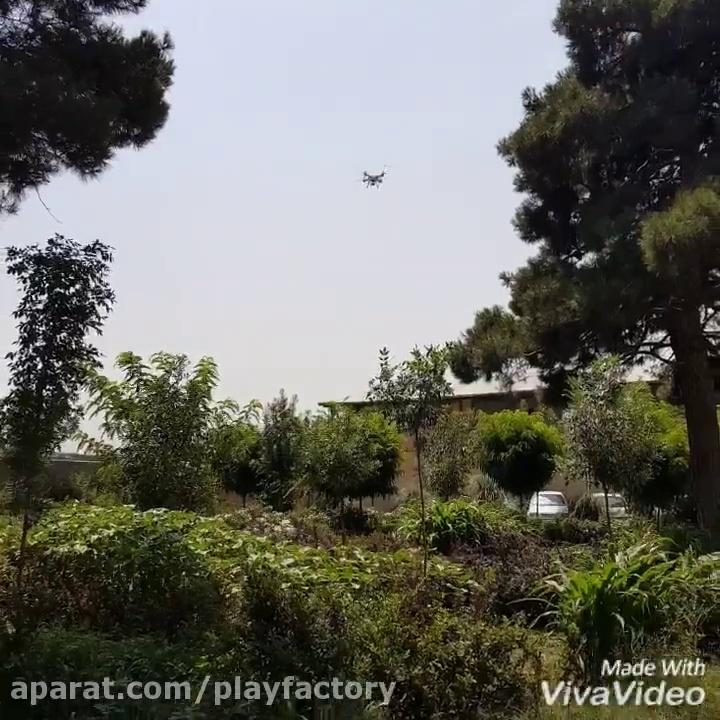drone: (355, 159, 391, 192)
